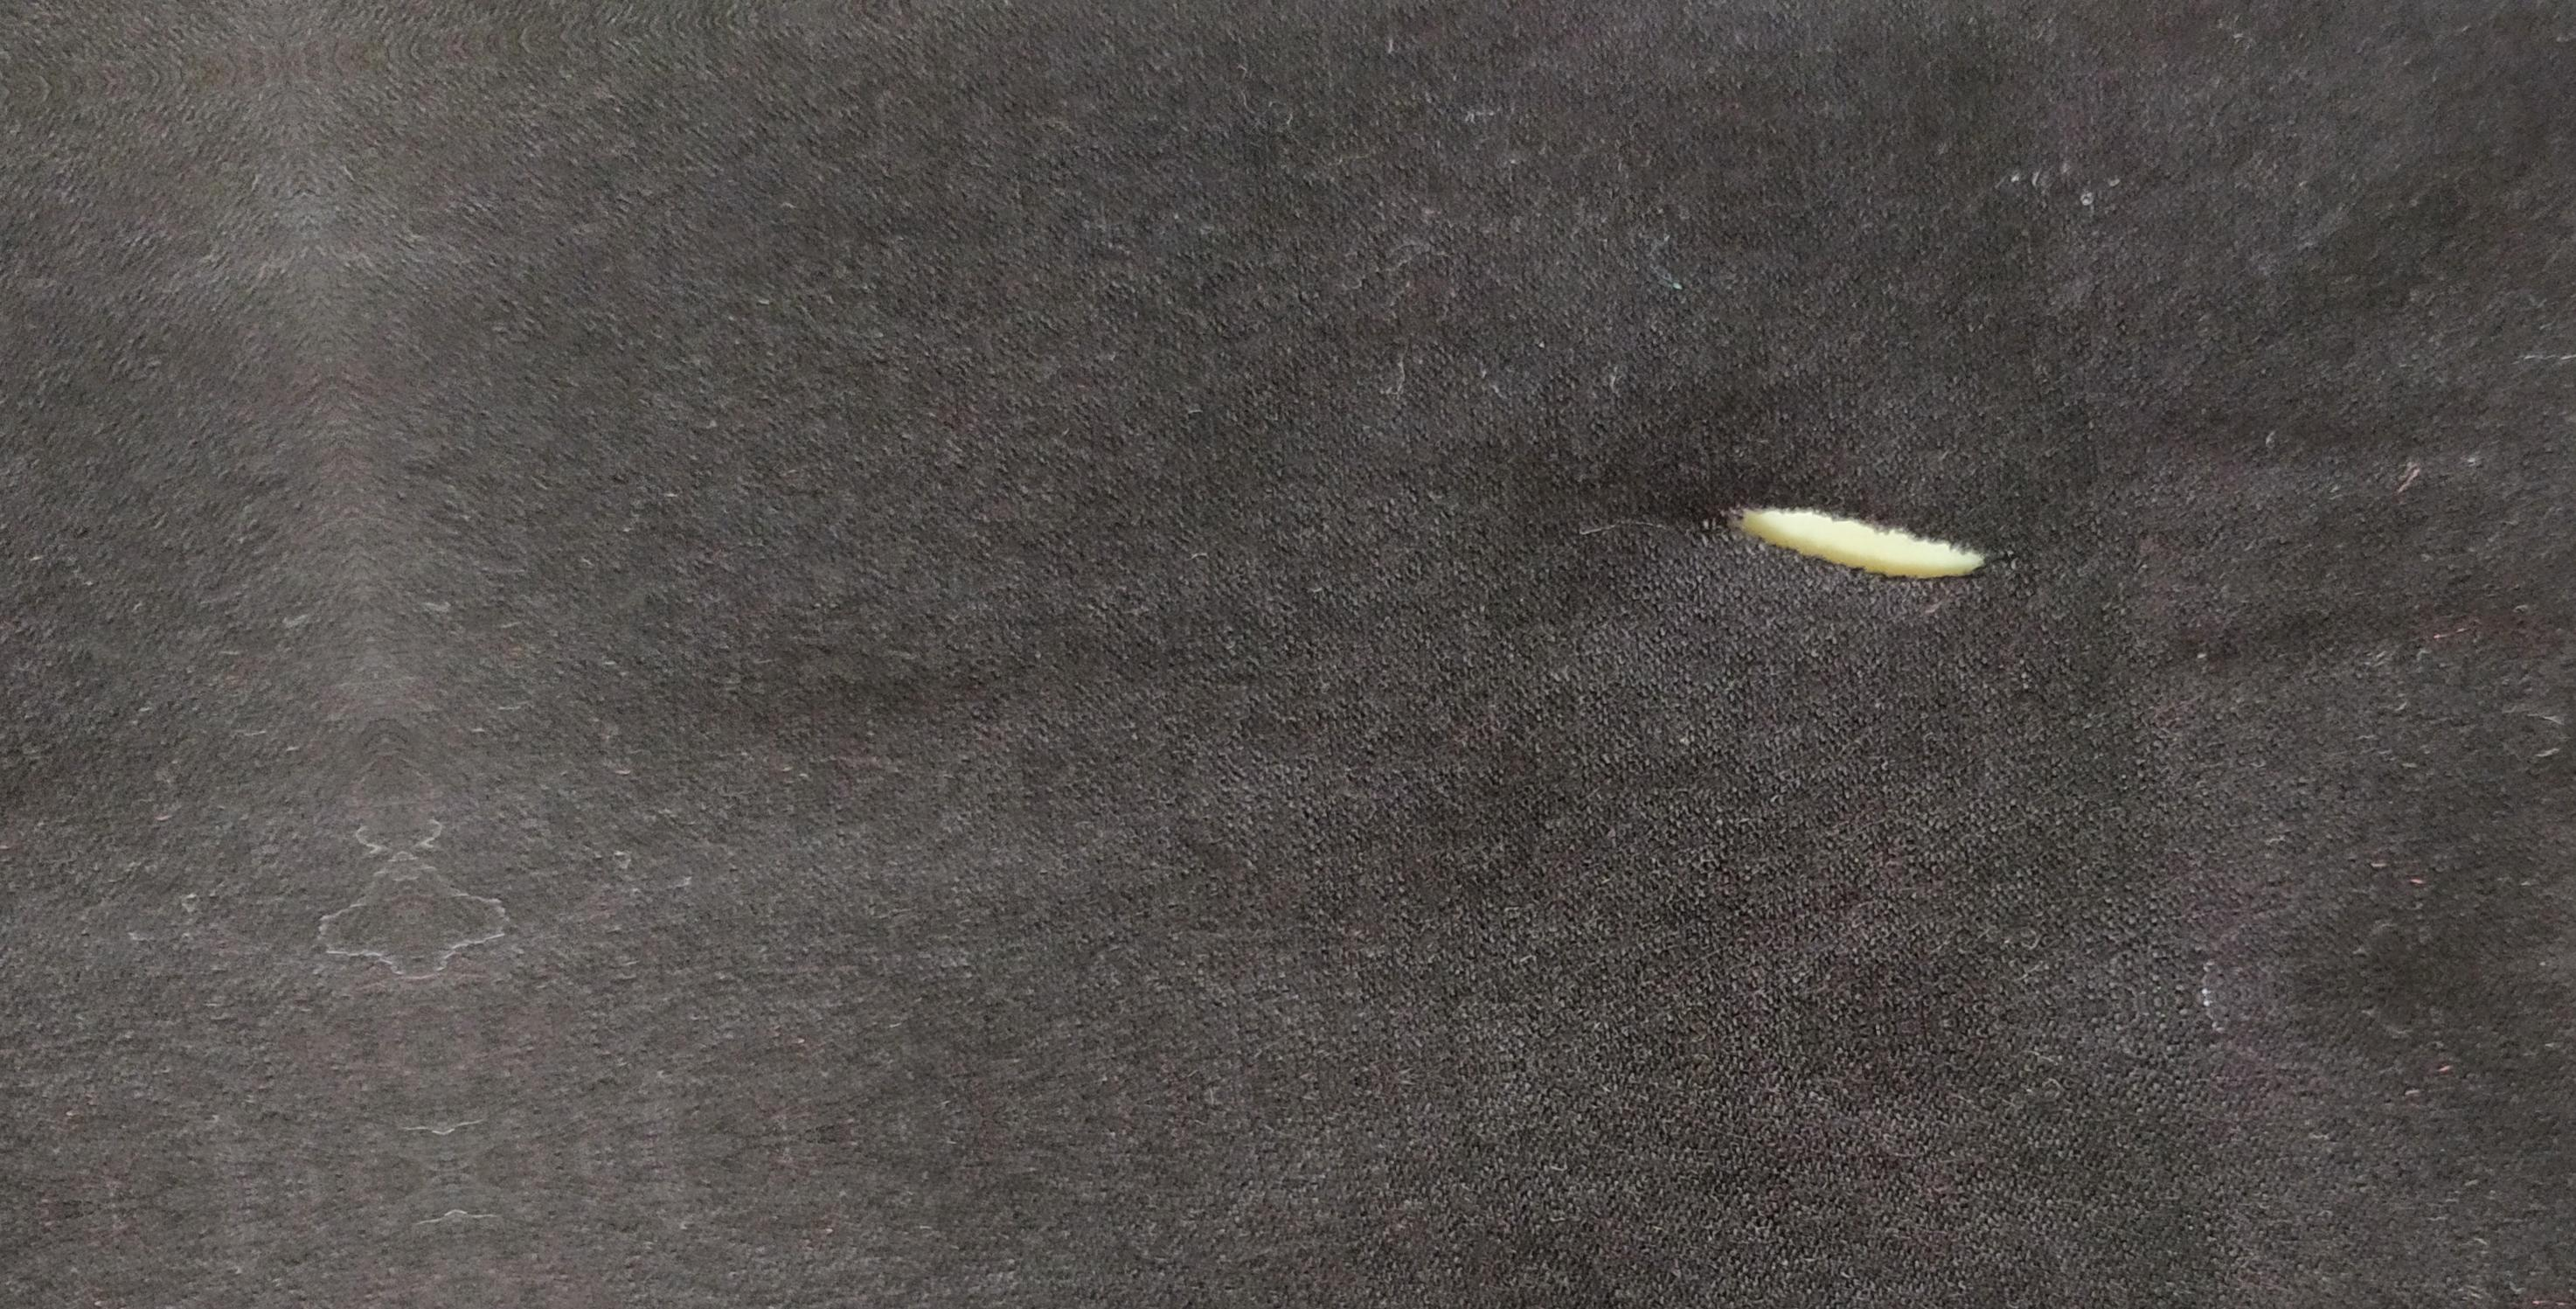hole: (1708, 473, 2015, 631)
